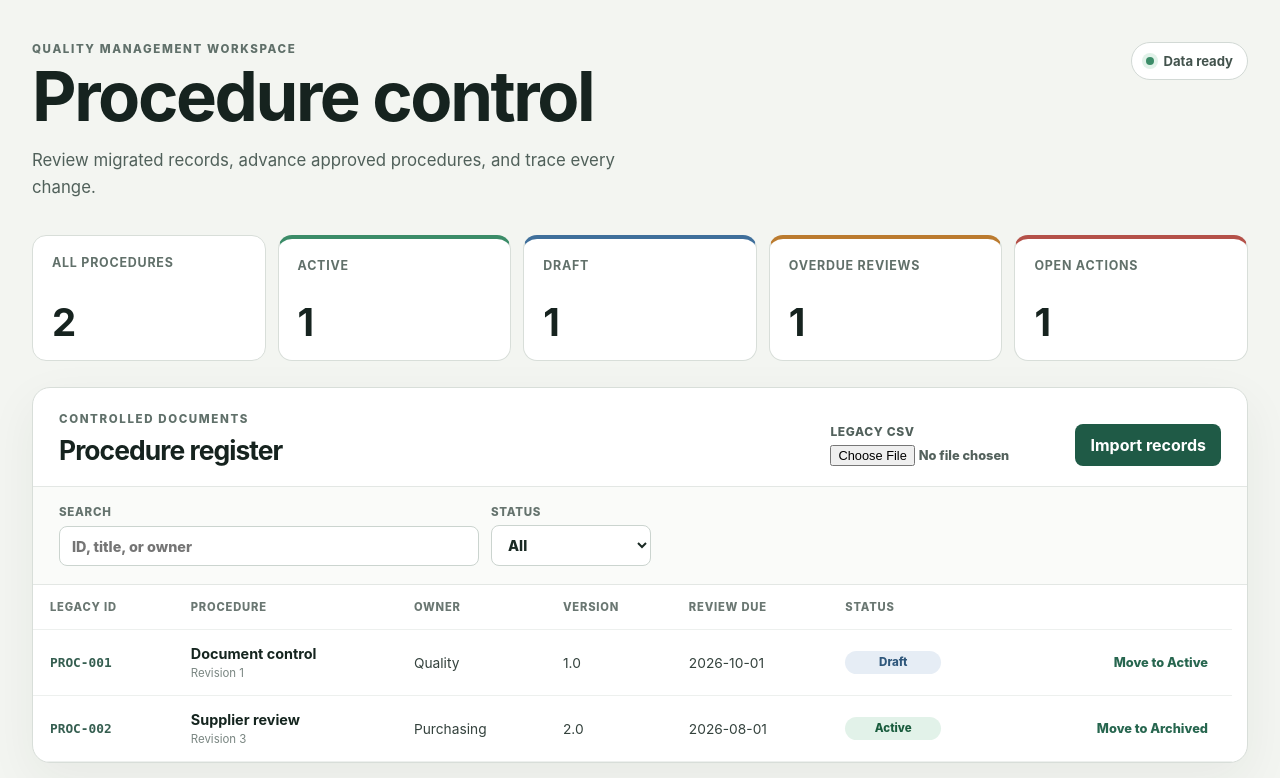
procedure register › requires a file before submitting a legacy import
Expected: the text "Document control" is shown, [191,645,317,662]
Click the button "Import records". click: (1148, 445)
box: [1076,424,1221,466]
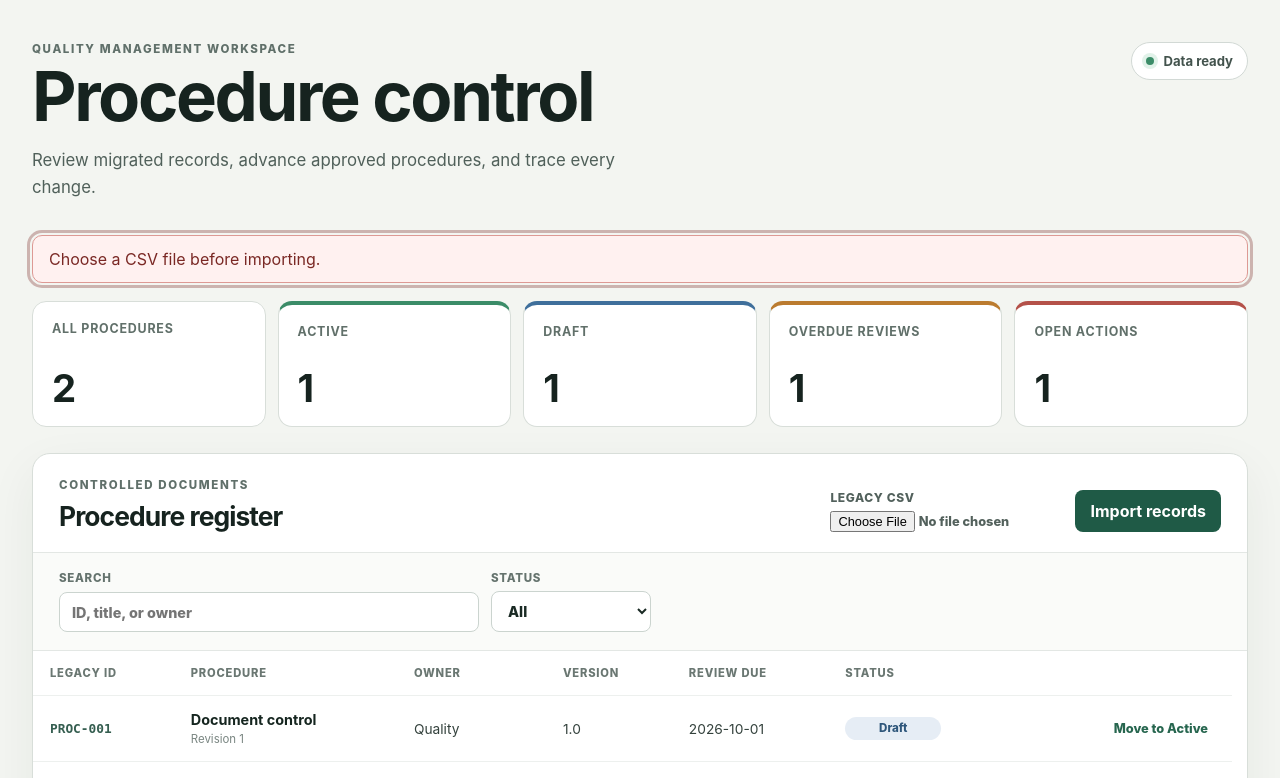
Now the message reads "Choose a CSV file before importing.", box [49,249,320,269]
